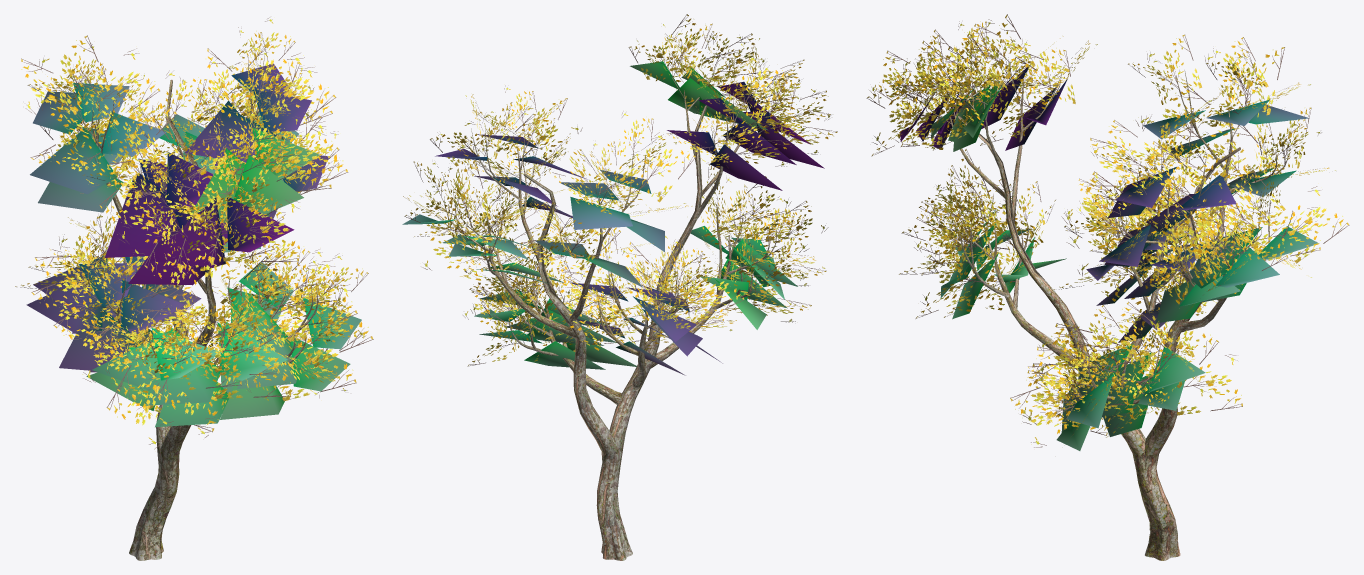
Rendered from colorTree.fbx.
3 renders of one model, left to right at view 1: azimuth 30°, elevation 25°; view 2: azimuth 150°, elevation 25°; view 3: azimuth 270°, elevation 25°, orthographic. The views are drawn at different scales.
Visible parts, largest first — view 1: Tree_2, Tree_1, Tree_0; view 2: Tree_1, Tree_2, Tree_0; view 3: Tree_1, Tree_2, Tree_0.
Boxes of the visible parts, x1,y1,x2,y2 form: Tree_2: (26,63,361,427); Tree_1: (15,17,373,449); Tree_0: (70,54,317,560); Tree_1: (403,14,837,366); Tree_2: (402,61,824,375); Tree_0: (444,57,783,560); Tree_1: (866,14,1349,447); Tree_2: (900,65,1318,450); Tree_0: (918,54,1292,560).
Size of the model in its own units: 293 by 425 by 353.
2 materials, 2 textured.
